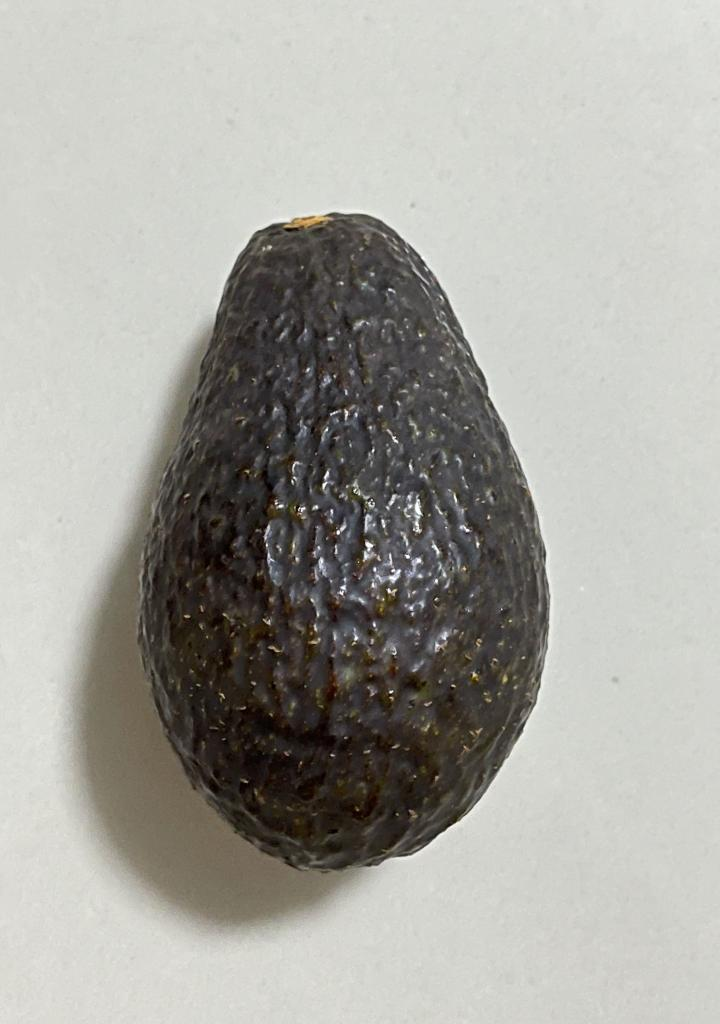Level2: (129, 203, 555, 885)
